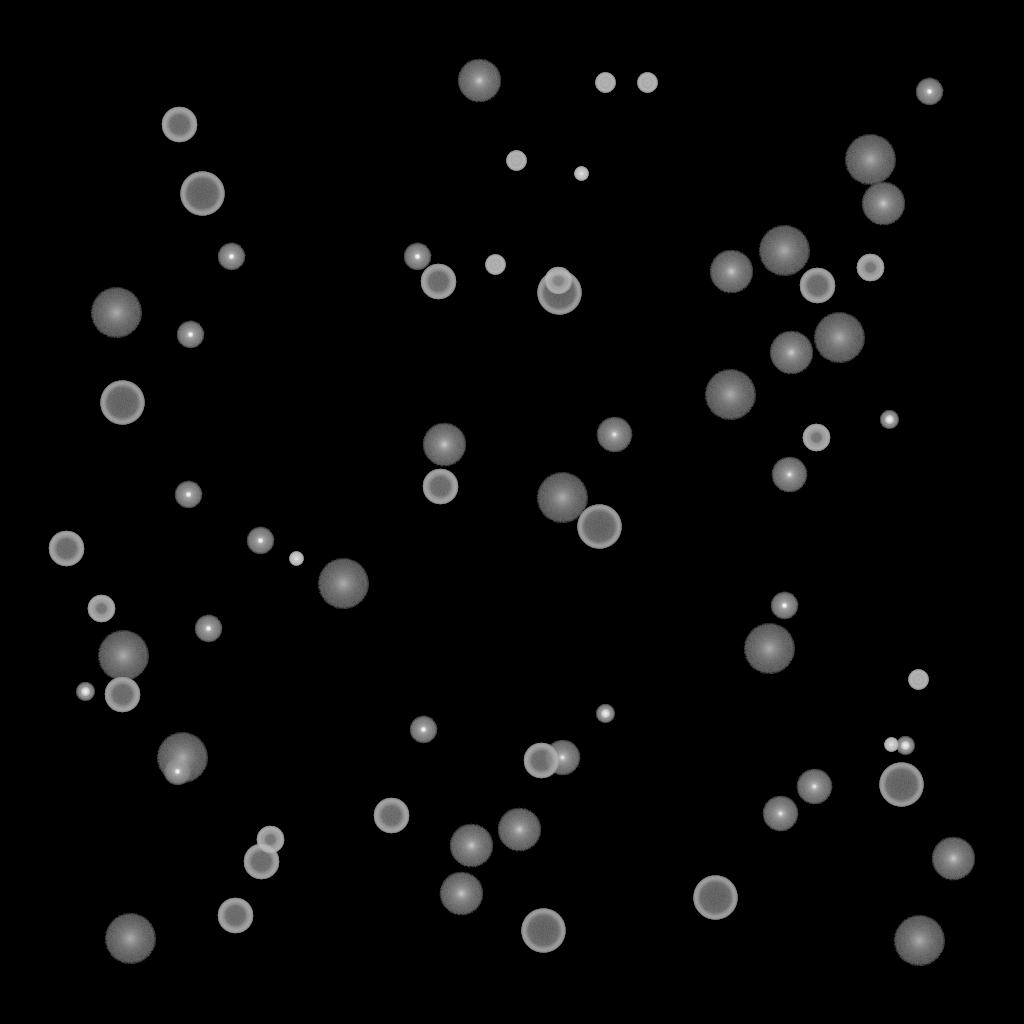depth:-10: (174, 481, 202, 509), (194, 615, 222, 643), (915, 78, 943, 106), (217, 243, 245, 271), (176, 321, 204, 349), (403, 243, 431, 271), (246, 527, 274, 555), (770, 592, 798, 620), (409, 716, 437, 744), (163, 758, 191, 786)
depth:-20: (896, 737, 914, 755), (596, 705, 614, 723), (880, 411, 898, 429), (76, 683, 94, 701)
depth:-30: (574, 167, 588, 181), (884, 738, 898, 752), (289, 552, 303, 566)
depth:-40: (908, 670, 928, 690), (506, 151, 526, 171), (595, 73, 615, 93), (637, 73, 657, 93), (485, 255, 505, 275)
depth:-50: (856, 254, 884, 282), (87, 595, 115, 623), (544, 267, 572, 295), (802, 424, 830, 452), (256, 826, 284, 854)
depth:-60: (161, 107, 197, 143), (217, 898, 253, 934), (48, 531, 84, 567), (523, 743, 559, 779), (799, 268, 835, 304), (420, 264, 456, 300), (104, 677, 140, 713), (373, 798, 409, 834), (243, 844, 279, 880), (422, 469, 458, 505)
depth:-70: (180, 172, 224, 216), (879, 763, 923, 807), (100, 381, 144, 425), (577, 505, 621, 549), (521, 909, 565, 953), (537, 271, 581, 315), (693, 876, 737, 920)
depth:0: (596, 417, 632, 453), (762, 796, 798, 832), (544, 740, 580, 776), (771, 457, 807, 493), (796, 769, 832, 805)
depth:10: (769, 331, 813, 375), (861, 182, 905, 226), (709, 250, 753, 294), (449, 824, 493, 868), (422, 423, 466, 467), (439, 872, 483, 916), (931, 837, 975, 881), (457, 59, 501, 103), (497, 808, 541, 852)
depth:20: (90, 288, 142, 338), (97, 631, 149, 681), (743, 624, 795, 674), (104, 914, 156, 964), (536, 473, 588, 523), (813, 313, 865, 363), (317, 559, 369, 609), (156, 733, 208, 783), (893, 916, 945, 966), (844, 135, 896, 185), (758, 226, 810, 276), (704, 370, 756, 420)
